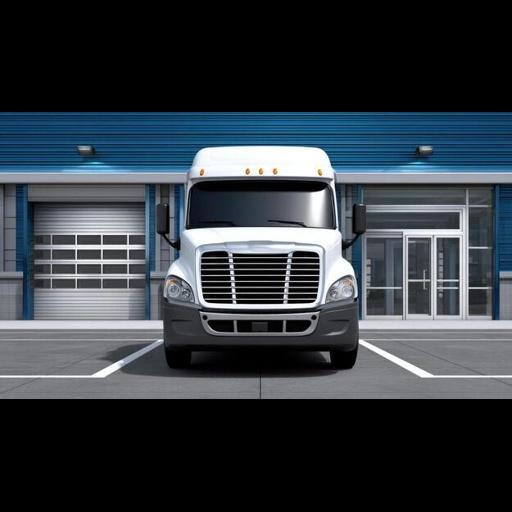truck: (152, 140, 371, 374)
